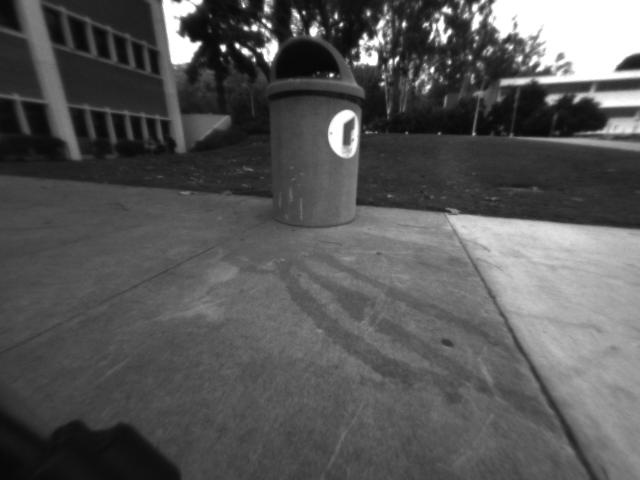trashcan: (262, 35, 367, 231)
